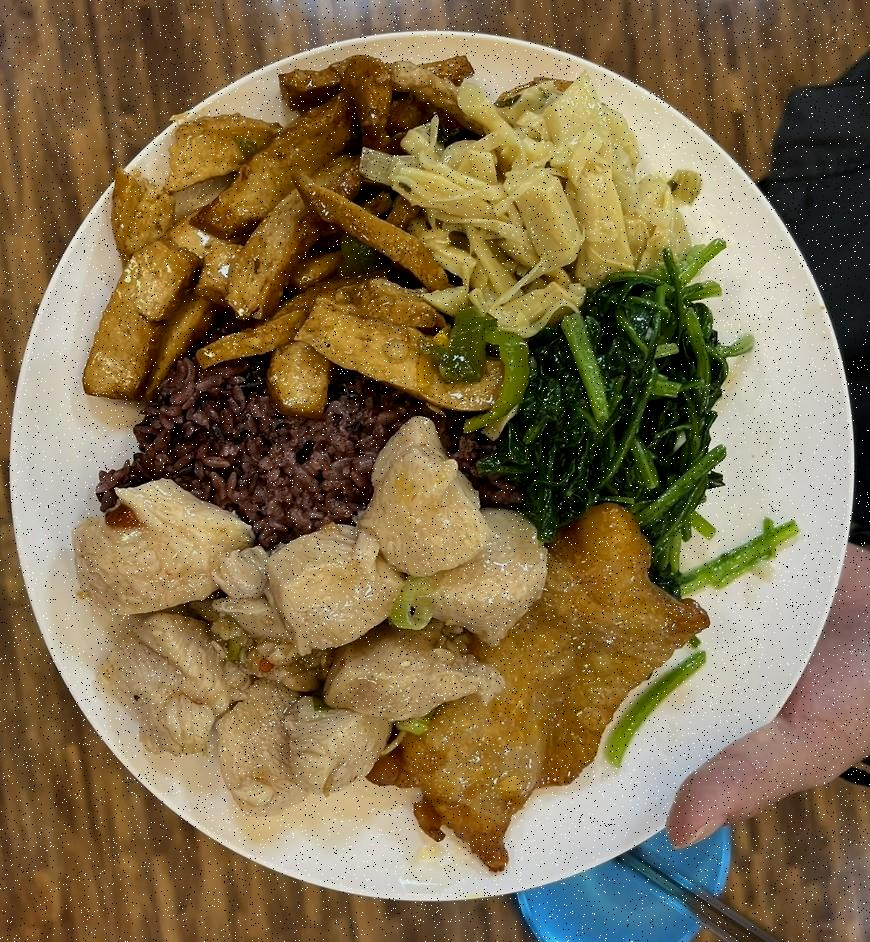big fried chicken leg: (8, 22, 864, 902)
braised fish: (101, 370, 420, 538)
braised fish fillet: (75, 40, 494, 422), (376, 72, 688, 328), (472, 262, 734, 544)
braised pork: (67, 418, 546, 810), (370, 505, 716, 868)
